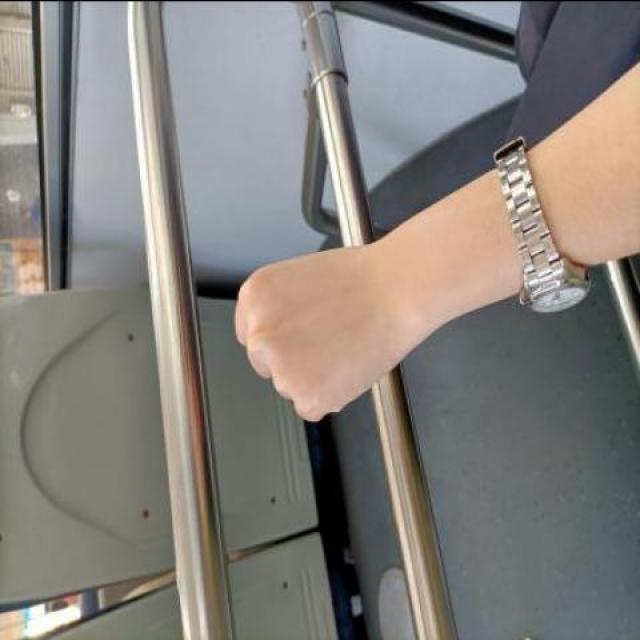Closed Hand: (231, 214, 417, 438)
